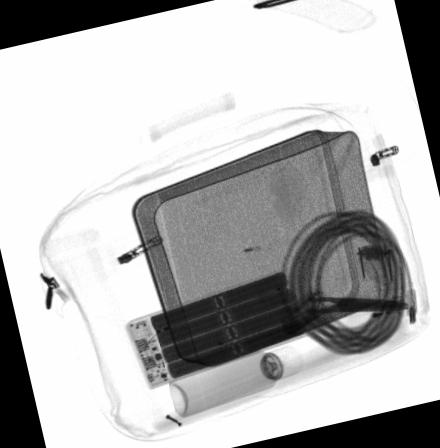Lighter: (369, 293, 405, 336)
Powerbank: (122, 270, 309, 389)
Scissors: (275, 277, 410, 335)
Sprayer: (167, 345, 299, 417)
